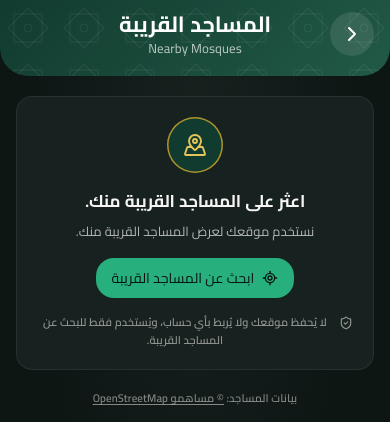
Scenario: Nearby Mosques — permission and location states › an invalid position from the device never reaches the network
What coordinates should you click on to do the following:
click the button with test id "mosques-start"
I would click on:
 (195, 278)
Its box is [96,258,294,298].
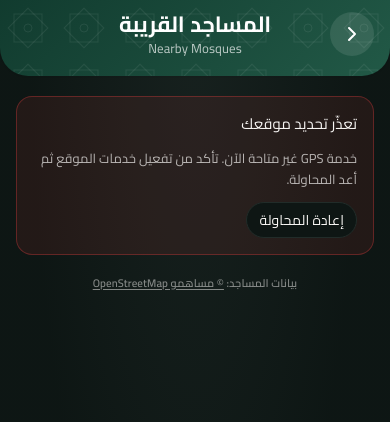
Expected: the element with test id "mosques-unavailable" is shown, [16,96,374,255]
